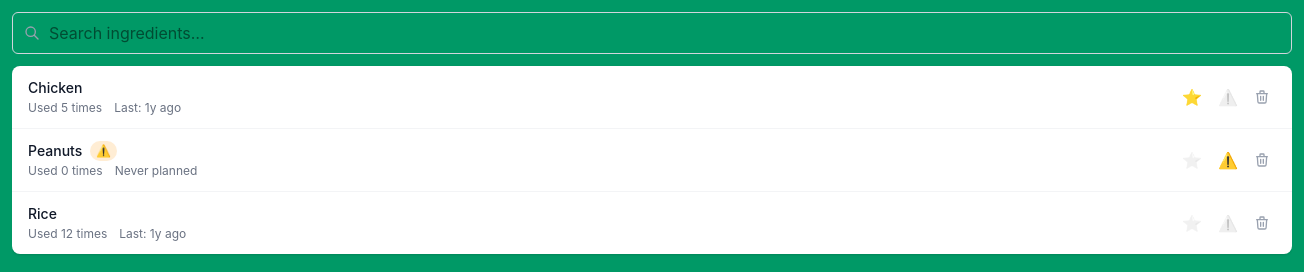
Test: IngredientsList › cancels delete when cancel is clicked
Click the button named "Delete Rice": coordinates (1262, 223) [1248,209,1276,237]
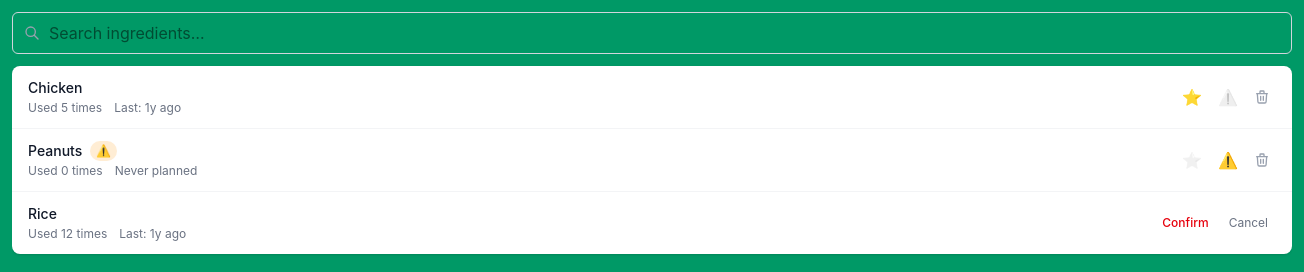
Click the button "Cancel": coordinates (1248, 223) [1221,211,1276,235]
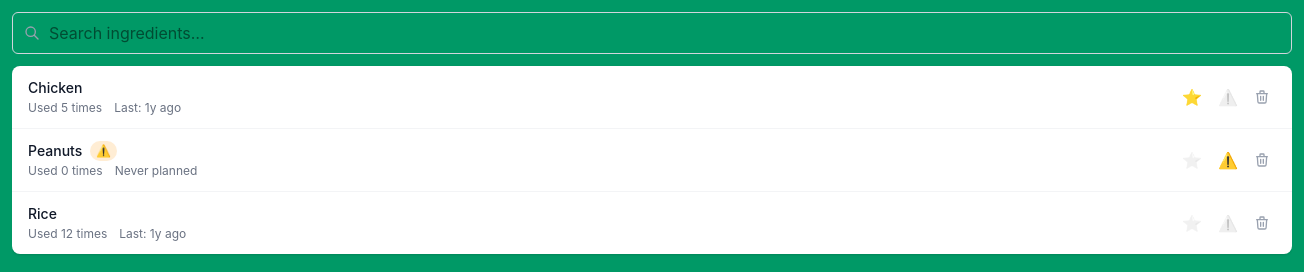
Check: the button "Confirm" is gone
Check: the button named "Delete Rice" is shown, box [1248,209,1276,237]
